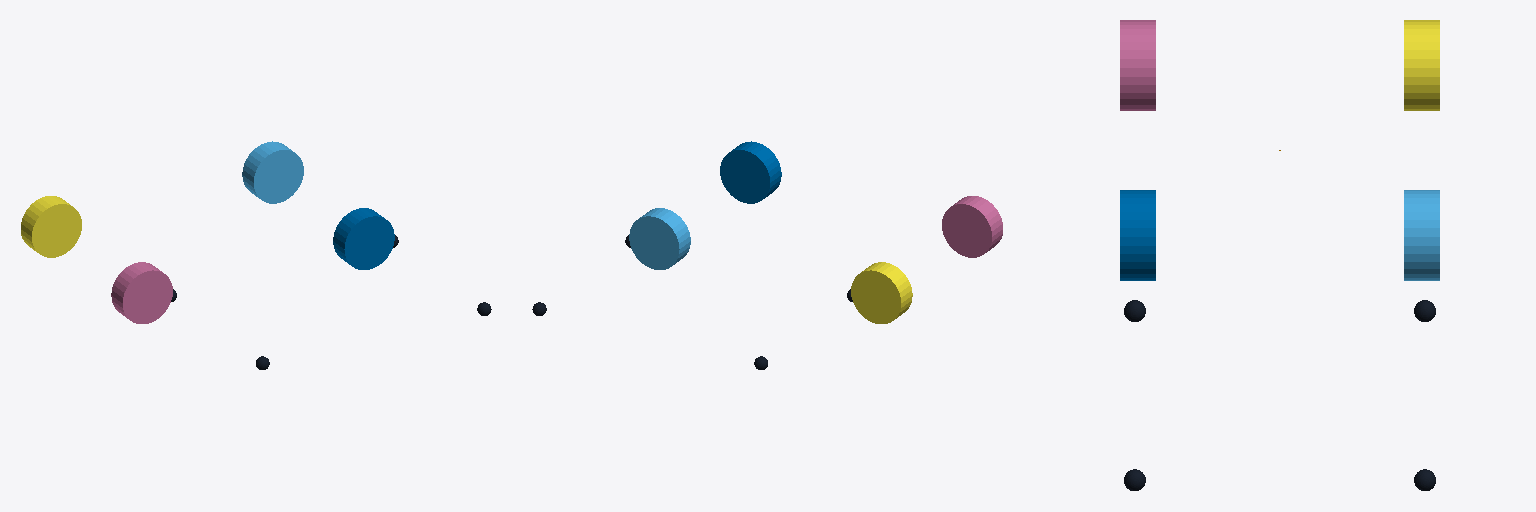
robot.urdf — a1_description:
<?xml version="1.0" encoding="utf-8"?>
<robot name="a1_description" xmlns:xacro="http://www.ros.org/wiki/xacro">
  <material name="black">
    <color rgba="0.0 0.0 0.0 1.0"/>
  </material>
  <material name="blue">
    <color rgba="0.0 0.0 0.8 1.0"/>
  </material>
  <material name="green">
    <color rgba="0.0 0.8 0.0 1.0"/>
  </material>
  <material name="grey">
    <color rgba="0.2 0.2 0.2 1.0"/>
  </material>
  <material name="silver">
    <color rgba="0.913725490196 0.913725490196 0.847058823529 1.0"/>
  </material>
  <material name="orange">
    <color rgba="0.12 0.15 0.2 1.0"/>
  </material>
  <material name="brown">
    <color rgba="0.870588235294 0.811764705882 0.764705882353 1.0"/>
  </material>
  <material name="red">
    <color rgba="0.8 0.0 0.0 1.0"/>
  </material>
  <material name="white">
    <color rgba="1.0 1.0 1.0 1.0"/>
  </material>
  
  <link name="base">
    <visual>
      <origin rpy="0 0 0" xyz="0 0 0"/>
      <geometry>
        <box size="0.001 0.001 0.001"/>
      </geometry>
    </visual>
  </link>
  <joint name="floating_base" type="fixed">
    <origin rpy="0 0 0" xyz="0 0 0"/>
    <parent link="base"/>
    <child link="trunk"/>
  </joint>
  <link name="trunk">
    <visual>
      <origin rpy="0 0 0" xyz="0 0 0"/>
      <geometry>
        <mesh filename="../meshes/trunk.dae" scale="1 1 1"/>
      </geometry>
      <material name="orange"/>
    </visual>
    <collision>
      <origin rpy="0 0 0" xyz="0 0 0"/>
      <geometry>
        <box size="0.267 0.194 0.114"/>
      </geometry>
    </collision>
    <inertial>
      <origin rpy="0 0 0" xyz="0.012731 0.002186 0.000515"/>
      <mass value="6.0"/>
      <inertia ixx="0.0158533" ixy="-3.66e-05" ixz="-6.11e-05" iyy="0.0377999" iyz="-2.75e-05" izz="0.0456542"/>
    </inertial>
  </link>
  <joint name="imu_joint" type="fixed">
    <parent link="trunk"/>
    <child link="imu_link"/>
    <origin rpy="0 0 0" xyz="0 0 0"/>
  </joint>
  <link name="imu_link">
    <inertial>
      <mass value="0.001"/>
      <origin rpy="0 0 0" xyz="0 0 0"/>
      <inertia ixx="0.0001" ixy="0" ixz="0" iyy="0.0001" iyz="0" izz="0.0001"/>
    </inertial>
    <visual>
      <origin rpy="0 0 0" xyz="0 0 0"/>
      <geometry>
        <box size="0.001 0.001 0.001"/>
      </geometry>
      <material name="red"/>
    </visual>
    <!-- <collision>
      <origin rpy="0 0 0" xyz="0 0 0"/>
      <geometry>
        <box size=".001 .001 .001"/>
      </geometry>
    </collision> -->
  </link>
  <joint name="FR_hip_joint" type="revolute">
    <origin rpy="0 0 0" xyz="0.1805 -0.047 0"/>
    <parent link="trunk"/>
    <child link="FR_hip"/>
    <axis xyz="1 0 0"/>
    <dynamics damping="0.01" friction="0.025"/>
    <limit effort="33.5" lower="-0.802851455917" upper="0.802851455917" velocity="21"/>
  </joint>
  <link name="FR_hip">
    <visual>
      <origin rpy="3.14159265359 0 0" xyz="0 0 0"/>
      <geometry>
        <mesh filename="../meshes/hip.dae" scale="1 1 1"/>
      </geometry>
      <material name="orange"/>
    </visual>
    <!-- <collision>
      <origin rpy="1.57079632679 0 0" xyz="0 0 0"/>
      <geometry>
        <cylinder length="0.04" radius="0.046"/>
      </geometry>
    </collision> -->
    <inertial>
      <origin rpy="0 0 0" xyz="-0.003311 -0.000635 3.1e-05"/>
      <mass value="0.696"/>
      <inertia ixx="0.000469246" ixy="9.409e-06" ixz="-3.42e-07" iyy="0.00080749" iyz="4.66e-07" izz="0.000552929"/>
    </inertial>
  </link>
  <joint name="FR_hip_fixed" type="fixed" dont_collapse="true">
    <origin rpy="0 0 0" xyz="0 -0.081 0"/>
    <parent link="FR_hip"/>
    <child link="FR_shoulder"/>
  </joint>
  <!-- this link is only for collision -->
  <link name="FR_shoulder">
    <visual>
      <origin rpy="1.57079632679 0 0" xyz="0 0 0"/>
      <geometry>
        <cylinder length="0.032" radius="0.041"/>
      </geometry>
    </visual>
    <collision>
      <origin rpy="1.57079632679 0 0" xyz="0 0 0"/>
      <geometry>
        <cylinder length="0.032" radius="0.041"/>
      </geometry>
    </collision>
    <inertial>
      <mass value="0.0001"/>
      <inertia ixx="9.6e-06" ixy="0.0" ixz="0.0" iyy="9.6e-06" iyz="0.0" izz="9.6e-06"/>
    </inertial>
  </link>
  <joint name="FR_thigh_joint" type="revolute">
    <origin rpy="0 0 0" xyz="0 -0.0838 0"/>
    <parent link="FR_hip"/>
    <child link="FR_thigh"/>
    <axis xyz="0 1 0"/>
    <dynamics damping="0.01" friction="0.03"/>
    <limit effort="33.5" lower="-1.0471975512" upper="3.0" velocity="21"/>
  </joint>
  <link name="FR_thigh">
    <visual>
      <origin rpy="0 0 0" xyz="0 0 0"/>
      <geometry>
        <mesh filename="../meshes/thigh_mirror.dae" scale="1 1 1"/>
      </geometry>
      <material name="orange"/>
    </visual>
    <collision>
      <origin rpy="0 1.57079632679 0" xyz="0 0 -0.1"/>
      <geometry>
        <box size="0.2 0.0245 0.034"/>
      </geometry>
    </collision>
    <inertial>
      <origin rpy="0 0 0" xyz="-0.003237 0.022327 -0.027326"/>
      <mass value="1.013"/>
      <inertia ixx="0.005529065" ixy="-4.825e-06" ixz="0.000343869" iyy="0.005139339" iyz="-2.2448e-05" izz="0.001367788"/>
    </inertial>
  </link>
  <joint name="FR_calf_joint" type="revolute">
    <origin rpy="0 0 0" xyz="0 0 -0.2"/>
    <parent link="FR_thigh"/>
    <child link="FR_calf"/>
    <axis xyz="0 1 0"/>
    <dynamics damping="0.01" friction="0.03"/>
    <limit effort="33.5" lower="-2.69653369433" upper="-0.916297857297" velocity="21"/>
  </joint>
  <link name="FR_calf">
    <visual>
      <origin rpy="0 0 0" xyz="0 0 0"/>
      <geometry>
        <mesh filename="../meshes/calf.dae" scale="1 1 1"/>
      </geometry>
      <material name="orange"/>
    </visual>
    <collision>
      <origin rpy="0 1.57079632679 0" xyz="0 0 -0.1"/>
      <geometry>
        <box size="0.2 0.016 0.016"/>
      </geometry>
    </collision>
    <inertial>
      <origin rpy="0 0 0" xyz="0.006435 0.0 -0.107388"/>
      <mass value="0.166"/>
      <inertia ixx="0.002997972" ixy="0.0" ixz="-0.000141163" iyy="0.003014022" iyz="0.0" izz="3.2426e-05"/>
    </inertial>
  </link>
  <joint name="FR_foot_fixed" type="fixed" dont_collapse="true">
    <origin rpy="0 0 0" xyz="0 0 -0.2"/>
    <parent link="FR_calf"/>
    <child link="FR_foot"/>
  </joint>
  <link name="FR_foot">
    <visual>
      <origin rpy="0 0 0" xyz="0 0 0"/>
      <geometry>
        <sphere radius="0.01"/>
      </geometry>
      <material name="orange"/>
    </visual>
    <collision>
      <origin rpy="0 0 0" xyz="0 0 0"/>
      <geometry>
        <sphere radius="0.02"/>
      </geometry>
    </collision>
    <inertial>
      <mass value="0.06"/>
      <inertia ixx="9.6e-06" ixy="0.0" ixz="0.0" iyy="9.6e-06" iyz="0.0" izz="9.6e-06"/>
    </inertial>
  </link>
  <joint name="FL_hip_joint" type="revolute">
    <origin rpy="0 0 0" xyz="0.1805 0.047 0"/>
    <parent link="trunk"/>
    <child link="FL_hip"/>
    <axis xyz="1 0 0"/>
    <dynamics damping="0.01" friction="0.025"/>
    <limit effort="33.5" lower="-0.802851455917" upper="0.802851455917" velocity="21"/>
  </joint>
  <link name="FL_hip">
    <visual>
      <origin rpy="0 0 0" xyz="0 0 0"/>
      <geometry>
        <mesh filename="../meshes/hip.dae" scale="1 1 1"/>
      </geometry>
      <material name="orange"/>
    </visual>
    <!-- <collision>
      <origin rpy="1.57079632679 0 0" xyz="0 0 0"/>
      <geometry>
        <cylinder length="0.04" radius="0.046"/>
      </geometry>
    </collision> -->
    <inertial>
      <origin rpy="0 0 0" xyz="-0.003311 0.000635 3.1e-05"/>
      <mass value="0.696"/>
      <inertia ixx="0.000469246" ixy="-9.409e-06" ixz="-3.42e-07" iyy="0.00080749" iyz="-4.66e-07" izz="0.000552929"/>
    </inertial>
  </link>
  <joint name="FL_hip_fixed" type="fixed" dont_collapse="true">
    <origin rpy="0 0 0" xyz="0 0.081 0"/>
    <parent link="FL_hip"/>
    <child link="FL_shoulder"/>
  </joint>
  <!-- this link is only for collision -->
  <link name="FL_shoulder">
    <visual>
      <origin rpy="1.57079632679 0 0" xyz="0 0 0"/>
      <geometry>
        <cylinder length="0.032" radius="0.041"/>
      </geometry>
    </visual>
    <collision>
      <origin rpy="1.57079632679 0 0" xyz="0 0 0"/>
      <geometry>
        <cylinder length="0.032" radius="0.041"/>
      </geometry>
    </collision>
    <inertial>
      <mass value="0.0001"/>
      <inertia ixx="9.6e-06" ixy="0.0" ixz="0.0" iyy="9.6e-06" iyz="0.0" izz="9.6e-06"/>
    </inertial>
  </link>
  <joint name="FL_thigh_joint" type="revolute">
    <origin rpy="0 0 0" xyz="0 0.0838 0"/>
    <parent link="FL_hip"/>
    <child link="FL_thigh"/>
    <axis xyz="0 1 0"/>
    <dynamics damping="0.01" friction="0.03"/>
    <limit effort="33.5" lower="-1.0471975512" upper="3.0" velocity="21"/>
  </joint>
  <link name="FL_thigh">
    <visual>
      <origin rpy="0 0 0" xyz="0 0 0"/>
      <geometry>
        <mesh filename="../meshes/thigh.dae" scale="1 1 1"/>
      </geometry>
      <material name="orange"/>
    </visual>
    <collision>
      <origin rpy="0 1.57079632679 0" xyz="0 0 -0.1"/>
      <geometry>
        <box size="0.2 0.0245 0.034"/>
      </geometry>
    </collision>
    <inertial>
      <origin rpy="0 0 0" xyz="-0.003237 -0.022327 -0.027326"/>
      <mass value="1.013"/>
      <inertia ixx="0.005529065" ixy="4.825e-06" ixz="0.000343869" iyy="0.005139339" iyz="2.2448e-05" izz="0.001367788"/>
    </inertial>
  </link>
  <joint name="FL_calf_joint" type="revolute">
    <origin rpy="0 0 0" xyz="0 0 -0.2"/>
    <parent link="FL_thigh"/>
    <child link="FL_calf"/>
    <axis xyz="0 1 0"/>
    <dynamics damping="0.01" friction="0.03"/>
    <limit effort="33.5" lower="-2.69653369433" upper="-0.916297857297" velocity="21"/>
  </joint>
  <link name="FL_calf">
    <visual>
      <origin rpy="0 0 0" xyz="0 0 0"/>
      <geometry>
        <mesh filename="../meshes/calf.dae" scale="1 1 1"/>
      </geometry>
      <material name="orange"/>
    </visual>
    <collision>
      <origin rpy="0 1.57079632679 0" xyz="0 0 -0.1"/>
      <geometry>
        <box size="0.2 0.016 0.016"/>
      </geometry>
    </collision>
    <inertial>
      <origin rpy="0 0 0" xyz="0.006435 0.0 -0.107388"/>
      <mass value="0.166"/>
      <inertia ixx="0.002997972" ixy="0.0" ixz="-0.000141163" iyy="0.003014022" iyz="0.0" izz="3.2426e-05"/>
    </inertial>
  </link>
  <joint name="FL_foot_fixed" type="fixed" dont_collapse="true">
    <origin rpy="0 0 0" xyz="0 0 -0.2"/>
    <parent link="FL_calf"/>
    <child link="FL_foot"/>
  </joint>
  <link name="FL_foot">
    <visual>
      <origin rpy="0 0 0" xyz="0 0 0"/>
      <geometry>
        <sphere radius="0.01"/>
      </geometry>
      <material name="orange"/>
    </visual>
    <collision>
      <origin rpy="0 0 0" xyz="0 0 0"/>
      <geometry>
        <sphere radius="0.02"/>
      </geometry>
    </collision>
    <inertial>
      <mass value="0.06"/>
      <inertia ixx="9.6e-06" ixy="0.0" ixz="0.0" iyy="9.6e-06" iyz="0.0" izz="9.6e-06"/>
    </inertial>
  </link>
  <joint name="RR_hip_joint" type="revolute">
    <origin rpy="0 0 0" xyz="-0.1805 -0.047 0"/>
    <parent link="trunk"/>
    <child link="RR_hip"/>
    <axis xyz="1 0 0"/>
    <dynamics damping="0.01" friction="0.025"/>
    <limit effort="33.5" lower="-0.802851455917" upper="0.802851455917" velocity="21"/>
  </joint>
  <link name="RR_hip">
    <visual>
      <origin rpy="3.14159265359 3.14159265359 0" xyz="0 0 0"/>
      <geometry>
        <mesh filename="../meshes/hip.dae" scale="1 1 1"/>
      </geometry>
      <material name="orange"/>
    </visual>
    <!-- <collision>
      <origin rpy="1.57079632679 0 0" xyz="0 0 0"/>
      <geometry>
        <cylinder length="0.04" radius="0.046"/>
      </geometry>
    </collision> -->
    <inertial>
      <origin rpy="0 0 0" xyz="0.003311 -0.000635 3.1e-05"/>
      <mass value="0.696"/>
      <inertia ixx="0.000469246" ixy="-9.409e-06" ixz="3.42e-07" iyy="0.00080749" iyz="4.66e-07" izz="0.000552929"/>
    </inertial>
  </link>
  <joint name="RR_hip_fixed" type="fixed" dont_collapse="true">
    <origin rpy="0 0 0" xyz="0 -0.081 0"/>
    <parent link="RR_hip"/>
    <child link="RR_shoulder"/>
  </joint>
  <!-- this link is only for collision -->
  <link name="RR_shoulder">
    <visual>
      <origin rpy="1.57079632679 0 0" xyz="0 0 0"/>
      <geometry>
        <cylinder length="0.032" radius="0.041"/>
      </geometry>
    </visual>
    <collision>
      <origin rpy="1.57079632679 0 0" xyz="0 0 0"/>
      <geometry>
        <cylinder length="0.032" radius="0.041"/>
      </geometry>
    </collision>
    <inertial>
      <mass value="0.0001"/>
      <inertia ixx="9.6e-06" ixy="0.0" ixz="0.0" iyy="9.6e-06" iyz="0.0" izz="9.6e-06"/>
    </inertial>
  </link>
  <joint name="RR_thigh_joint" type="revolute">
    <origin rpy="0 0 0" xyz="0 -0.0838 0"/>
    <parent link="RR_hip"/>
    <child link="RR_thigh"/>
    <axis xyz="0 1 0"/>
    <dynamics damping="0.01" friction="0.03"/>
    <limit effort="33.5" lower="-1.0471975512" upper="3.0" velocity="21"/>
  </joint>
  <link name="RR_thigh">
    <visual>
      <origin rpy="0 0 0" xyz="0 0 0"/>
      <geometry>
        <mesh filename="../meshes/thigh_mirror.dae" scale="1 1 1"/>
      </geometry>
      <material name="orange"/>
    </visual>
    <collision>
      <origin rpy="0 1.57079632679 0" xyz="0 0 -0.1"/>
      <geometry>
        <box size="0.2 0.0245 0.034"/>
      </geometry>
    </collision>
    <inertial>
      <origin rpy="0 0 0" xyz="-0.003237 0.022327 -0.027326"/>
      <mass value="1.013"/>
      <inertia ixx="0.005529065" ixy="-4.825e-06" ixz="0.000343869" iyy="0.005139339" iyz="-2.2448e-05" izz="0.001367788"/>
    </inertial>
  </link>
  <joint name="RR_calf_joint" type="revolute">
    <origin rpy="0 0 0" xyz="0 0 -0.2"/>
    <parent link="RR_thigh"/>
    <child link="RR_calf"/>
    <axis xyz="0 1 0"/>
    <dynamics damping="0.01" friction="0.03"/>
    <limit effort="33.5" lower="-2.69653369433" upper="-0.916297857297" velocity="21"/>
  </joint>
  <link name="RR_calf">
    <visual>
      <origin rpy="0 0 0" xyz="0 0 0"/>
      <geometry>
        <mesh filename="../meshes/calf.dae" scale="1 1 1"/>
      </geometry>
      <material name="orange"/>
    </visual>
    <collision>
      <origin rpy="0 1.57079632679 0" xyz="0 0 -0.1"/>
      <geometry>
        <box size="0.2 0.016 0.016"/>
      </geometry>
    </collision>
    <inertial>
      <origin rpy="0 0 0" xyz="0.006435 0.0 -0.107388"/>
      <mass value="0.166"/>
      <inertia ixx="0.002997972" ixy="0.0" ixz="-0.000141163" iyy="0.003014022" iyz="0.0" izz="3.2426e-05"/>
    </inertial>
  </link>
  <joint name="RR_foot_fixed" type="fixed" dont_collapse="true">
    <origin rpy="0 0 0" xyz="0 0 -0.2"/>
    <parent link="RR_calf"/>
    <child link="RR_foot"/>
  </joint>
  <link name="RR_foot">
    <visual>
      <origin rpy="0 0 0" xyz="0 0 0"/>
      <geometry>
        <sphere radius="0.01"/>
      </geometry>
      <material name="orange"/>
    </visual>
    <collision>
      <origin rpy="0 0 0" xyz="0 0 0"/>
      <geometry>
        <sphere radius="0.02"/>
      </geometry>
    </collision>
    <inertial>
      <mass value="0.06"/>
      <inertia ixx="9.6e-06" ixy="0.0" ixz="0.0" iyy="9.6e-06" iyz="0.0" izz="9.6e-06"/>
    </inertial>
  </link>
  <joint name="RL_hip_joint" type="revolute">
    <origin rpy="0 0 0" xyz="-0.1805 0.047 0"/>
    <parent link="trunk"/>
    <child link="RL_hip"/>
    <axis xyz="1 0 0"/>
    <dynamics damping="0.01" friction="0.025"/>
    <limit effort="33.5" lower="-0.802851455917" upper="0.802851455917" velocity="21"/>
  </joint>
  <link name="RL_hip">
    <visual>
      <origin rpy="0 3.14159265359 0" xyz="0 0 0"/>
      <geometry>
        <mesh filename="../meshes/hip.dae" scale="1 1 1"/>
      </geometry>
      <material name="orange"/>
    </visual>
    <!-- <collision>
      <origin rpy="1.57079632679 0 0" xyz="0 0 0"/>
      <geometry>
        <cylinder length="0.04" radius="0.046"/>
      </geometry>
    </collision> -->
    <inertial>
      <origin rpy="0 0 0" xyz="0.003311 0.000635 3.1e-05"/>
      <mass value="0.696"/>
      <inertia ixx="0.000469246" ixy="9.409e-06" ixz="3.42e-07" iyy="0.00080749" iyz="-4.66e-07" izz="0.000552929"/>
    </inertial>
  </link>
  <joint name="RL_hip_fixed" type="fixed" dont_collapse="true">
    <origin rpy="0 0 0" xyz="0 0.081 0"/>
    <parent link="RL_hip"/>
    <child link="RL_shoulder"/>
  </joint>
  <!-- this link is only for collision -->
  <link name="RL_shoulder">
    <visual>
      <origin rpy="1.57079632679 0 0" xyz="0 0 0"/>
      <geometry>
        <cylinder length="0.032" radius="0.041"/>
      </geometry>
    </visual>
    <collision>
      <origin rpy="1.57079632679 0 0" xyz="0 0 0"/>
      <geometry>
        <cylinder length="0.032" radius="0.041"/>
      </geometry>
    </collision>
    <inertial>
      <mass value="0.0001"/>
      <inertia ixx="9.6e-06" ixy="0.0" ixz="0.0" iyy="9.6e-06" iyz="0.0" izz="9.6e-06"/>
    </inertial>
  </link>
  <joint name="RL_thigh_joint" type="revolute">
    <origin rpy="0 0 0" xyz="0 0.0838 0"/>
    <parent link="RL_hip"/>
    <child link="RL_thigh"/>
    <axis xyz="0 1 0"/>
    <dynamics damping="0.01" friction="0.03"/>
    <limit effort="33.5" lower="-1.0471975512" upper="3.0" velocity="21"/>
  </joint>
  <link name="RL_thigh">
    <visual>
      <origin rpy="0 0 0" xyz="0 0 0"/>
      <geometry>
        <mesh filename="../meshes/thigh.dae" scale="1 1 1"/>
      </geometry>
      <material name="orange"/>
    </visual>
    <collision>
      <origin rpy="0 1.57079632679 0" xyz="0 0 -0.1"/>
      <geometry>
        <box size="0.2 0.0245 0.034"/>
      </geometry>
    </collision>
    <inertial>
      <origin rpy="0 0 0" xyz="-0.003237 -0.022327 -0.027326"/>
      <mass value="1.013"/>
      <inertia ixx="0.005529065" ixy="4.825e-06" ixz="0.000343869" iyy="0.005139339" iyz="2.2448e-05" izz="0.001367788"/>
    </inertial>
  </link>
  <joint name="RL_calf_joint" type="revolute">
    <origin rpy="0 0 0" xyz="0 0 -0.2"/>
    <parent link="RL_thigh"/>
    <child link="RL_calf"/>
    <axis xyz="0 1 0"/>
    <dynamics damping="0.01" friction="0.03"/>
    <limit effort="33.5" lower="-2.69653369433" upper="-0.916297857297" velocity="21"/>
  </joint>
  <link name="RL_calf">
    <visual>
      <origin rpy="0 0 0" xyz="0 0 0"/>
      <geometry>
        <mesh filename="../meshes/calf.dae" scale="1 1 1"/>
      </geometry>
      <material name="orange"/>
    </visual>
    <collision>
      <origin rpy="0 1.57079632679 0" xyz="0 0 -0.1"/>
      <geometry>
        <box size="0.2 0.016 0.016"/>
      </geometry>
    </collision>
    <inertial>
      <origin rpy="0 0 0" xyz="0.006435 0.0 -0.107388"/>
      <mass value="0.166"/>
      <inertia ixx="0.002997972" ixy="0.0" ixz="-0.000141163" iyy="0.003014022" iyz="0.0" izz="3.2426e-05"/>
    </inertial>
  </link>
  <joint name="RL_foot_fixed" type="fixed" dont_collapse="true">
    <origin rpy="0 0 0" xyz="0 0 -0.2"/>
    <parent link="RL_calf"/>
    <child link="RL_foot"/>
  </joint>
  <link name="RL_foot">
    <visual>
      <origin rpy="0 0 0" xyz="0 0 0"/>
      <geometry>
        <sphere radius="0.01"/>
      </geometry>
      <material name="orange"/>
    </visual>
    <collision>
      <origin rpy="0 0 0" xyz="0 0 0"/>
      <geometry>
        <sphere radius="0.02"/>
      </geometry>
    </collision>
    <inertial>
      <mass value="0.06"/>
      <inertia ixx="9.6e-06" ixy="0.0" ixz="0.0" iyy="9.6e-06" iyz="0.0" izz="9.6e-06"/>
    </inertial>
  </link>
</robot>

--- What the picture shows (computed from the rendered views, not written in the file) ---
3 views of the same robot in one strip: view 1: azimuth 30°, elevation 25°; view 2: azimuth 150°, elevation 25°; view 3: azimuth 270°, elevation 25° (orthographic).
Model a1_description with 23 links and 22 joints (12 revolute, 10 fixed), rooted at base, posed joints at zero except 4 at the middle of their limits (FR_calf_joint = -1.81, FL_calf_joint = -1.81, RR_calf_joint = -1.81, RL_calf_joint = -1.81).
Visible links, largest first — view 1: FR_shoulder, FL_shoulder, RR_shoulder, RL_shoulder; view 2: FL_shoulder, FR_shoulder, RL_shoulder, RR_shoulder; view 3: FR_shoulder, FL_shoulder, RR_shoulder, RL_shoulder.
Boxes of the visible links, x1,y1,x2,y2 form: FR_shoulder: [333, 208, 394, 269]; FL_shoulder: [242, 141, 303, 203]; RR_shoulder: [111, 262, 172, 323]; RL_shoulder: [21, 196, 81, 257]; FL_shoulder: [629, 208, 690, 269]; FR_shoulder: [720, 141, 781, 203]; RL_shoulder: [851, 262, 912, 323]; RR_shoulder: [942, 196, 1002, 257]; FR_shoulder: [1120, 190, 1155, 280]; FL_shoulder: [1404, 190, 1439, 280]; RR_shoulder: [1120, 20, 1155, 110]; RL_shoulder: [1404, 20, 1439, 110].
Bounding box of the posed robot: 0.6065 × 0.288 × 0.2043 m (x, y, z).
Meshes: 5 distinct files referenced, 0 mesh visuals loaded (none loaded); not drawn: 13 (reference not matched to a file when rendering).